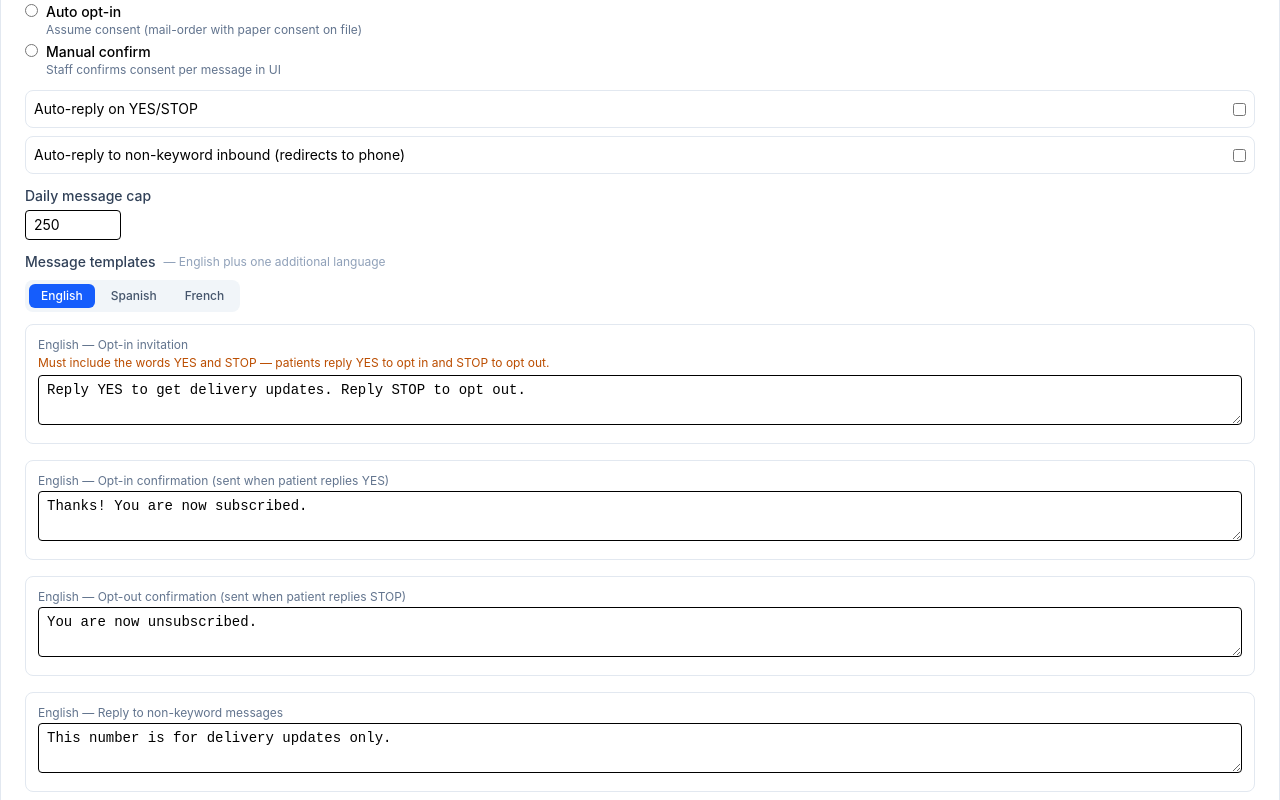
Test: <TextMessagingSection /> template editor › shows an inline error naming YES when the opt-in invitation loses the word YES
This screenshot has width=1280, height=800.
(page scrolled)
Replace the text in the text box showing "Reply YES to get delivery updates. Reply STOP to opt out." below "English — Opt-in invitation" with "Reply STOP to opt out." at (640, 400), box [38,375,1242,425]
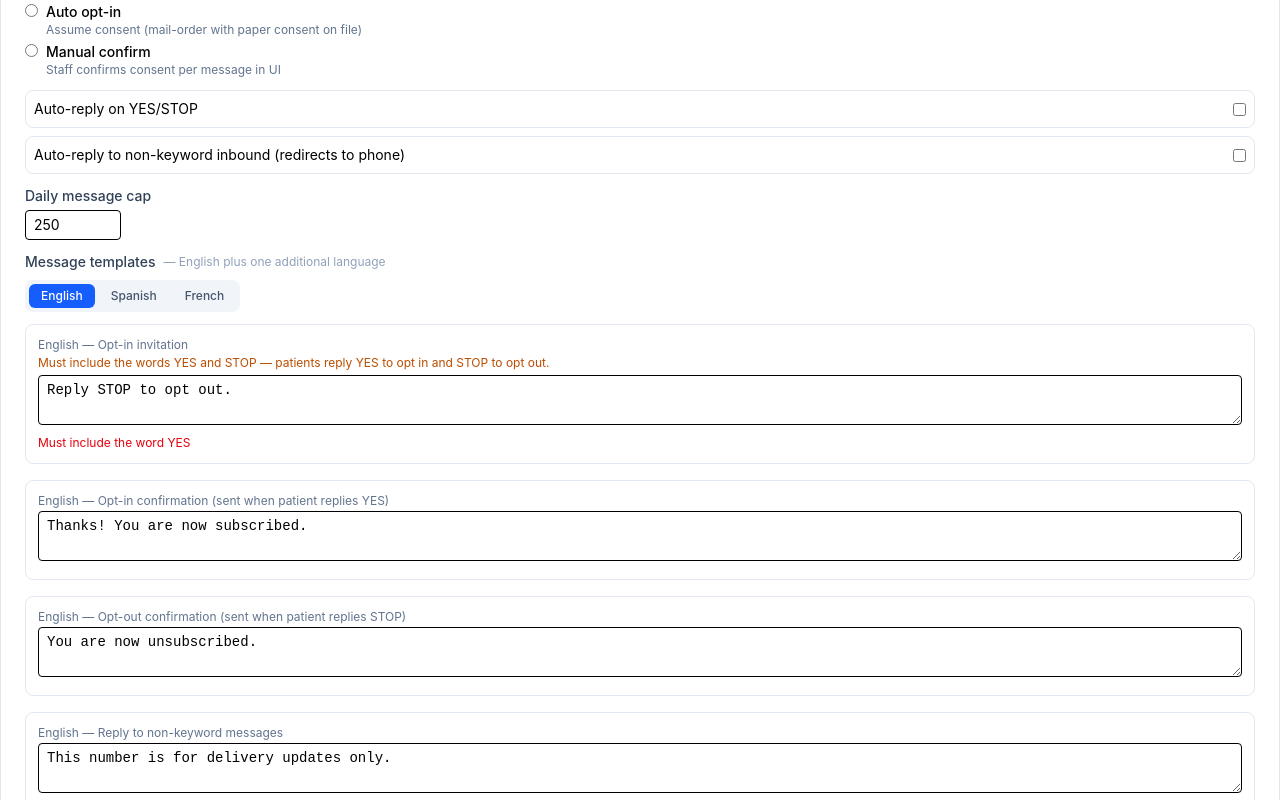
Expected: the message shows "YES", [167,435,190,450]
